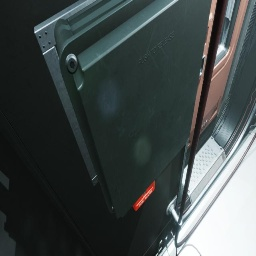FireAlarm ,: (132, 180, 155, 211)
